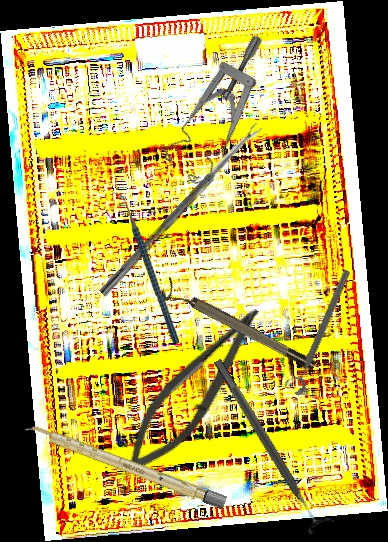Chopper: (110, 189, 180, 345)
Fixation Ring: (204, 352, 336, 537), (158, 276, 319, 380), (281, 265, 355, 397)
Micro Scissor: (112, 290, 273, 488)
Scalpel Handle: (23, 420, 228, 510)
Speculum: (138, 32, 311, 194)
Surgical Spoon: (98, 122, 264, 298)
